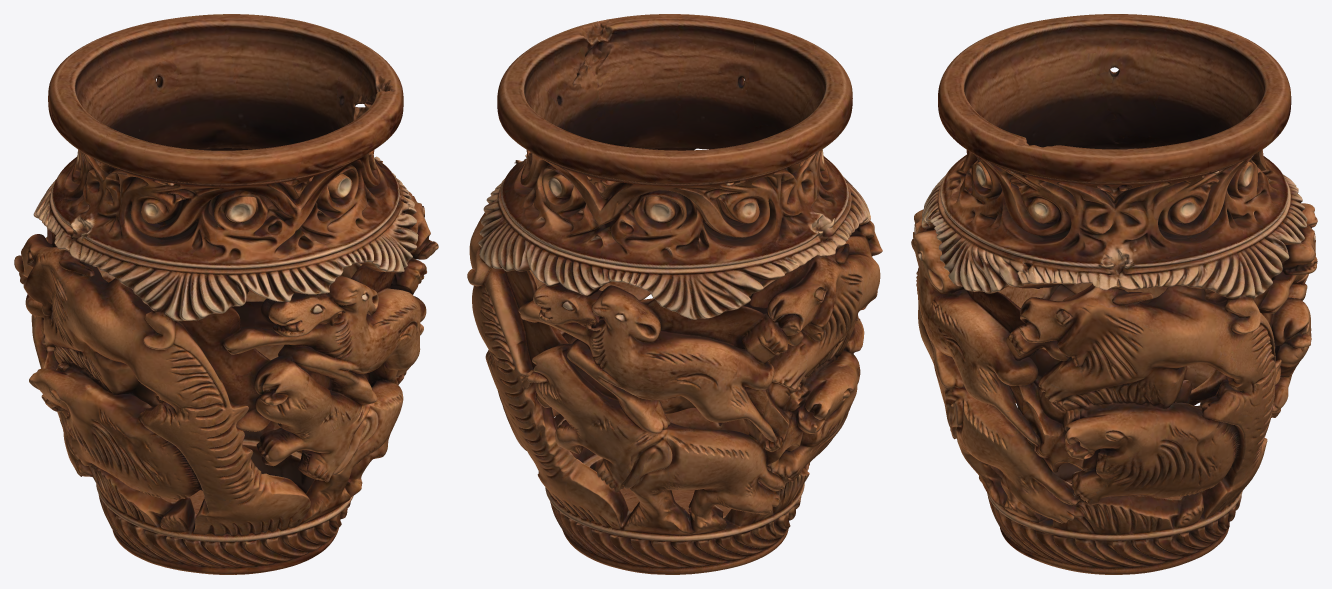
Rendered from Meshy_AI_Carved_Animal_Vase_0920095833_texture.glb.
3 renders of one model, left to right at view 1: azimuth 30°, elevation 25°; view 2: azimuth 150°, elevation 25°; view 3: azimuth 270°, elevation 25°, orthographic.
Size of the model in its own units: 1.6 by 1.9 by 1.57.
1 material, 1 textured.
